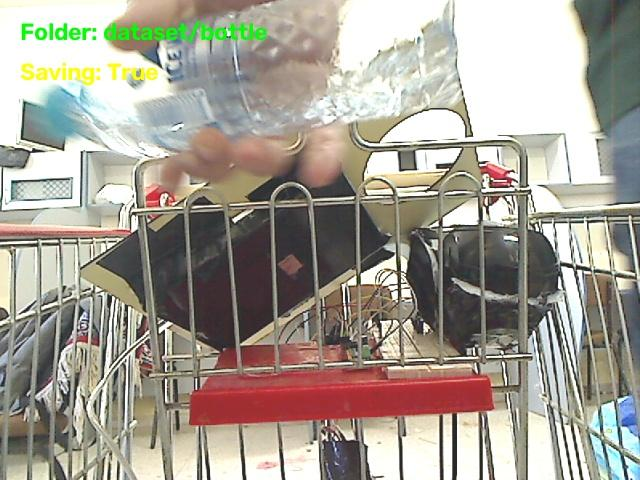Bottle: (43, 0, 460, 157)
